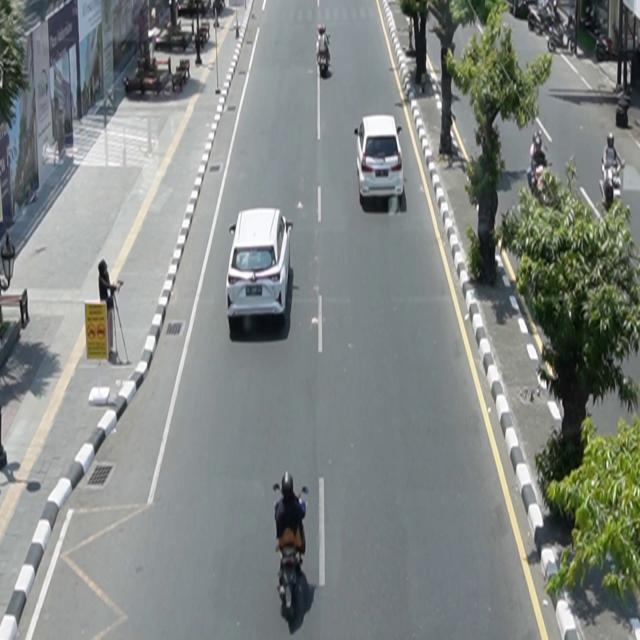car: (227, 208, 294, 329), (355, 115, 404, 205)
